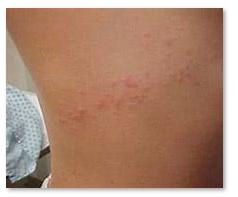Lice: (95, 73, 149, 117), (44, 92, 94, 130), (93, 91, 117, 115), (119, 67, 139, 92), (173, 60, 193, 85), (123, 90, 148, 108), (73, 103, 90, 123), (161, 35, 177, 49)
